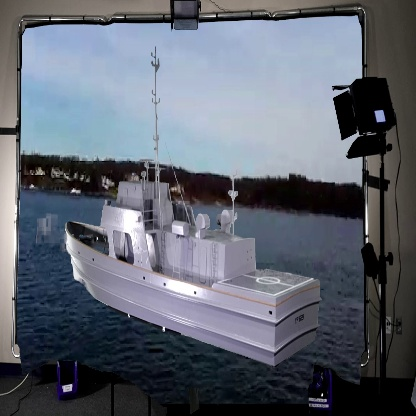YP689: (67, 46, 320, 369)
